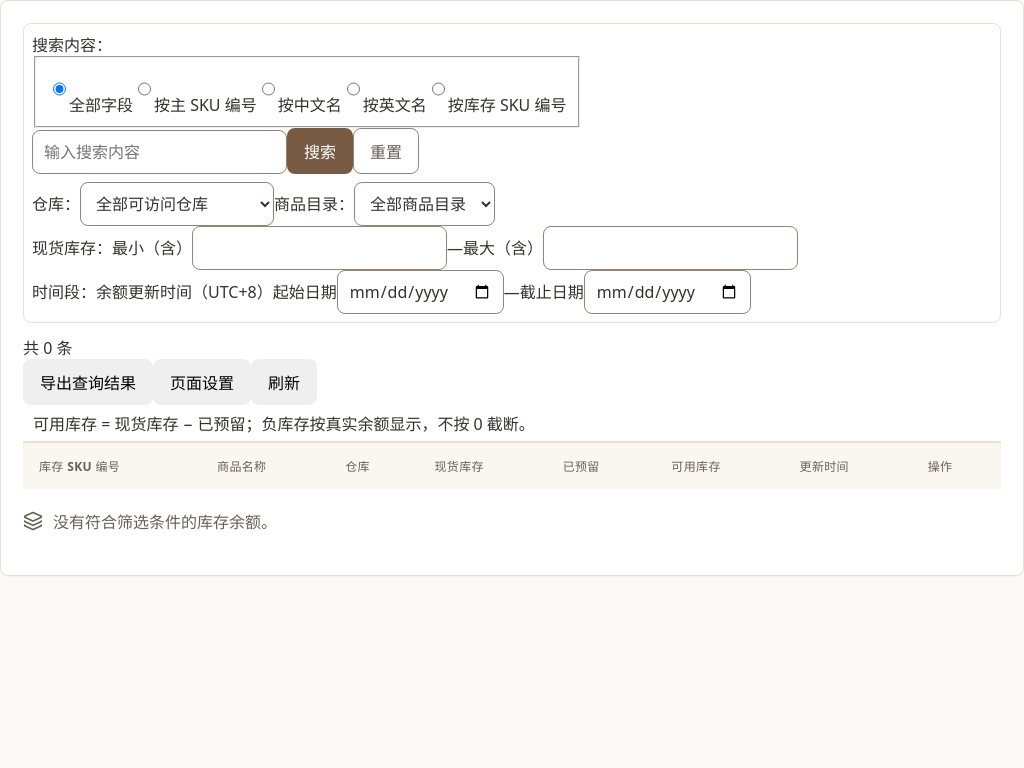
Test: InventoryQueryPage › rejects an inverted balance updated date range near the fields
The width and height of the screenshot is (1024, 768).
Expected: the table named "库存余额列表" is shown, [23,442,1001,489]
Type "2026-08-01" into the date field named "余额更新时间起始日期（含）" at (420, 292), box [337,270,504,314]
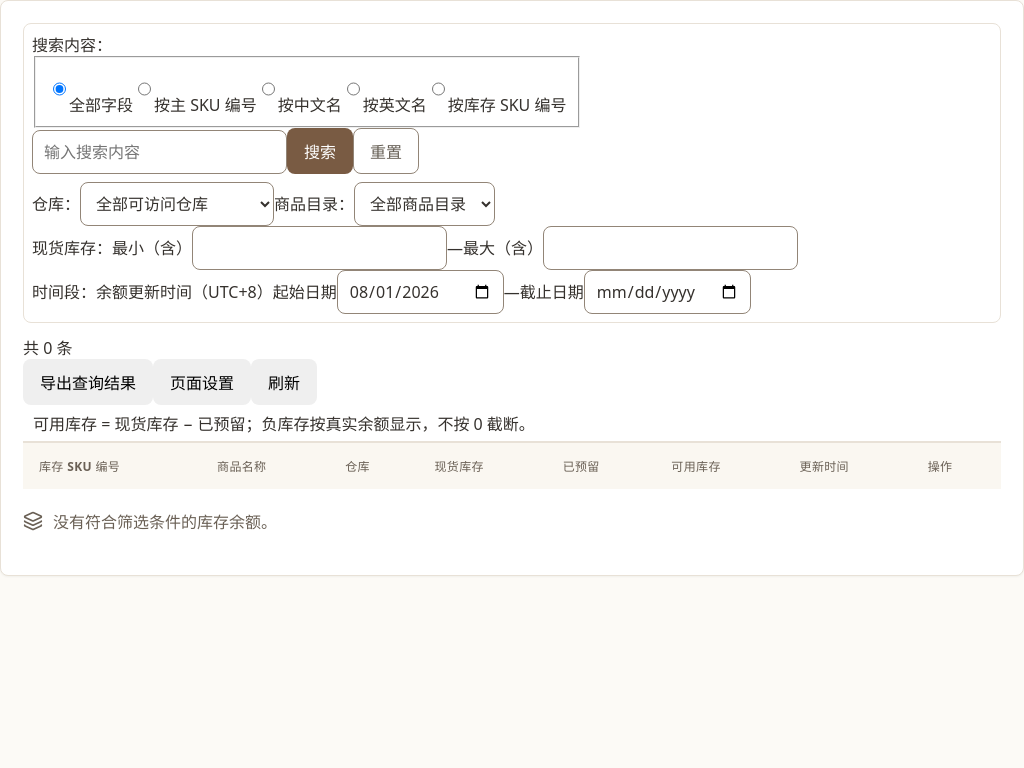
Type "2026-07-31" into the date field named "余额更新时间截止日期（含）" at (667, 292), box [584,270,751,314]
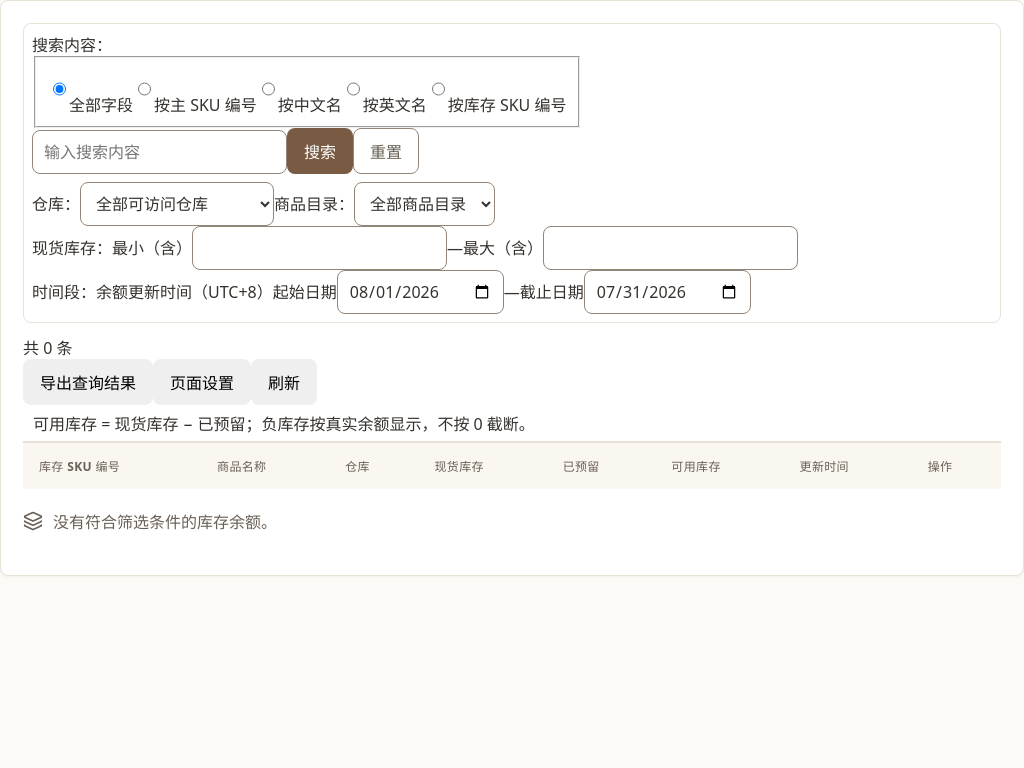
Click the button "搜索" at (320, 151), box [287,128,353,174]
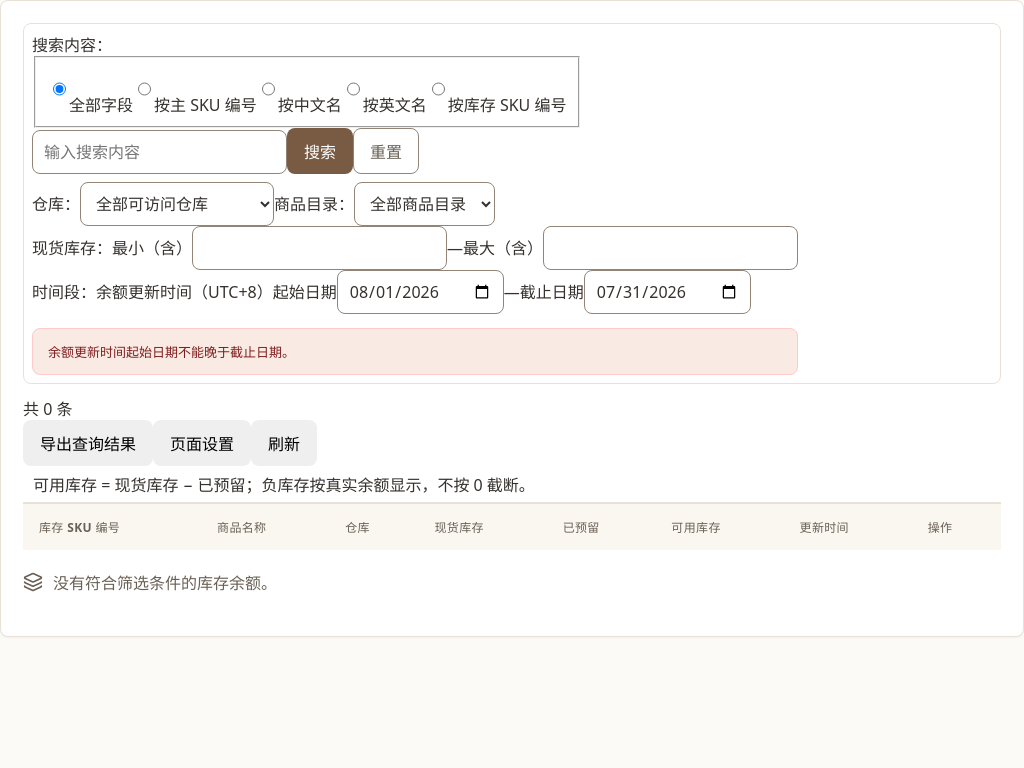
Expected: the message shows "余额更新时间起始日期不能晚于截止日期", [48,343,295,361]
